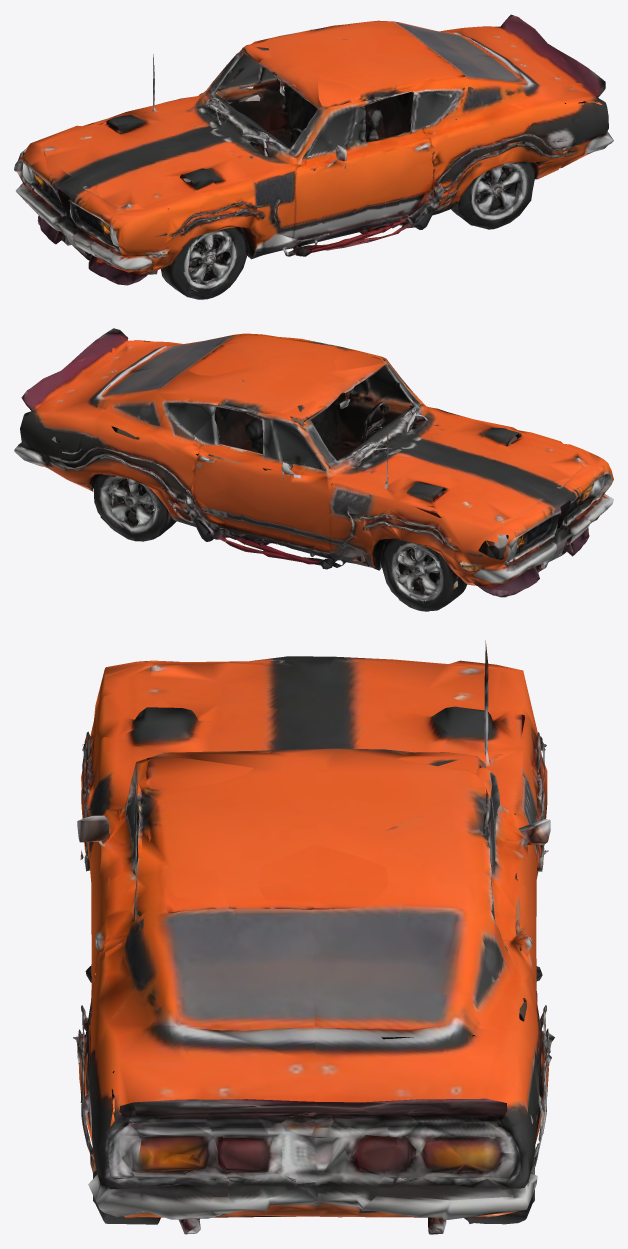
File: muscle.glb
3 views of the same model, one above another, from view 1: azimuth 30°, elevation 25°; view 2: azimuth 150°, elevation 25°; view 3: azimuth 270°, elevation 25° (orthographic). The views are drawn at different scales.
Bounding box in the file's own units: 1.9 × 0.6026 × 0.7865.
Materials: 1 (1 with a texture image).
